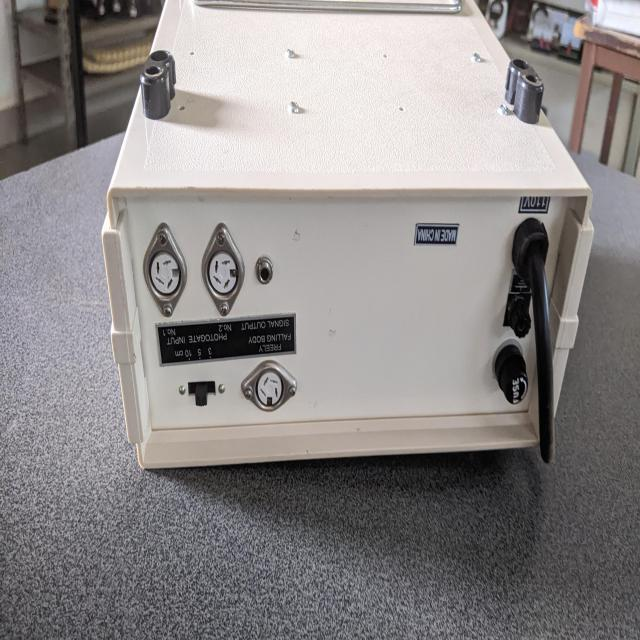Freefall Digital Timer: (93, 2, 601, 479)
